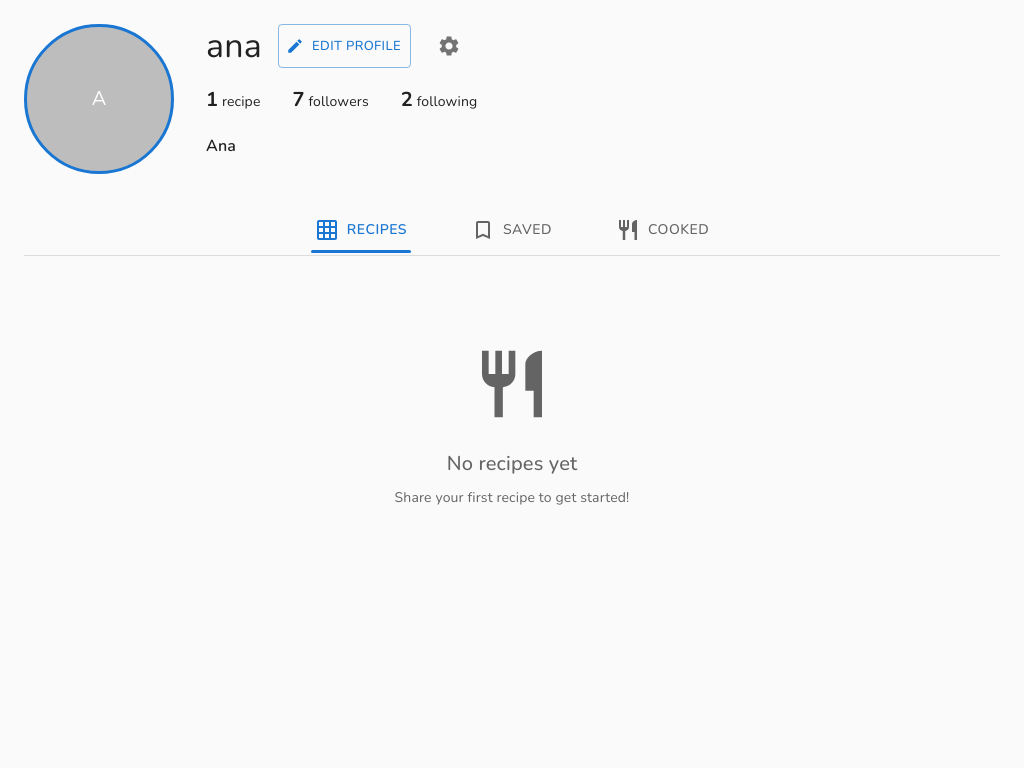
Test case: the profile page › your Saved tab › brings it back, and says it is still saved, when the unsave fails
This screenshot has width=1024, height=768.
Click the button "Saved". click: (528, 230)
box: [503,218,552,242]
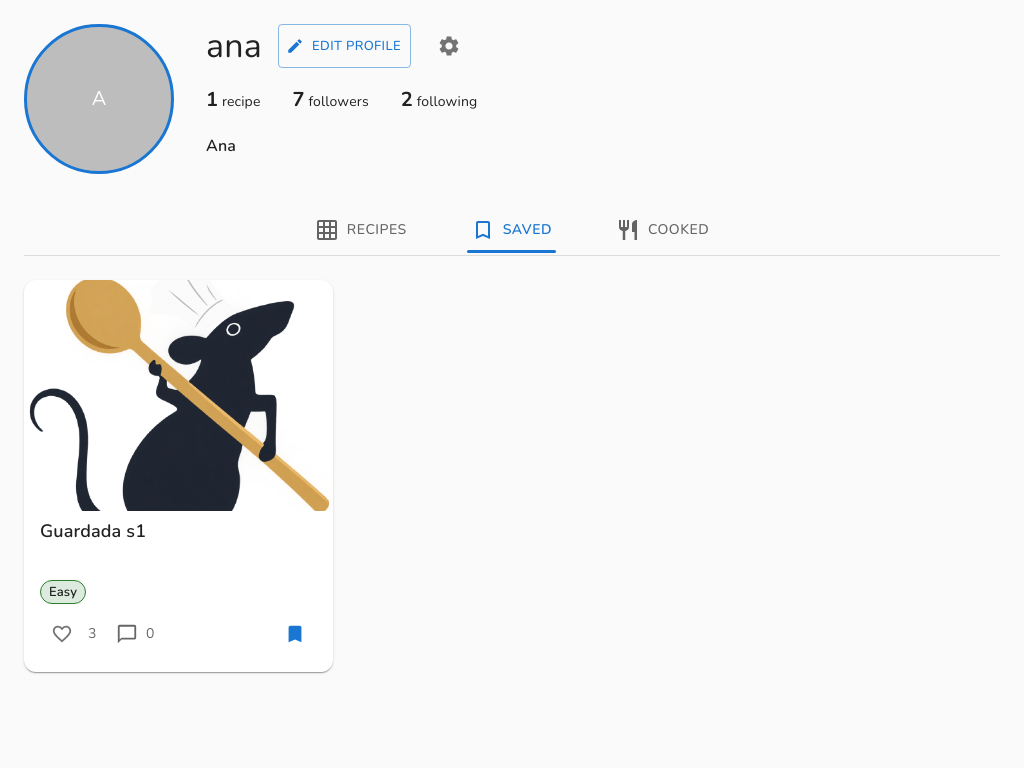
Expected: the link "Guardada s1" is shown, [40,519,146,543]
Click the button named "Remove from saved". click: (295, 634)
box: [273,612,317,656]
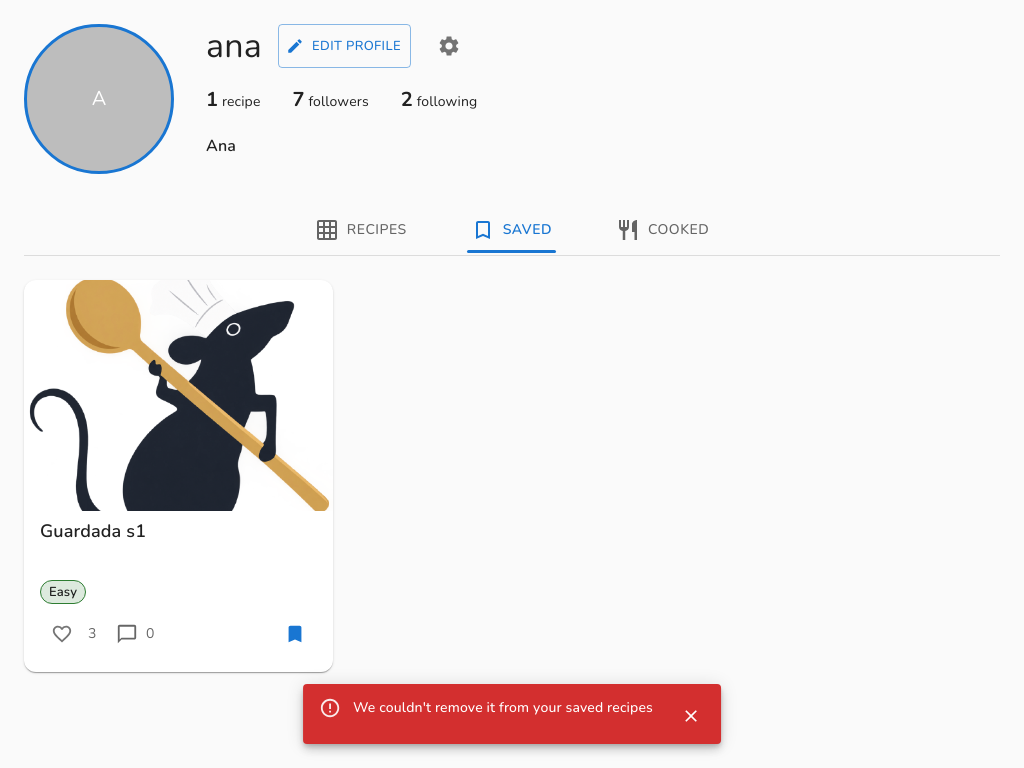
Expected: the link "Guardada s1" is shown, [40,519,146,543]
Expected: the text "We couldn't remove it from your saved recipes" is shown, [353,698,653,717]
